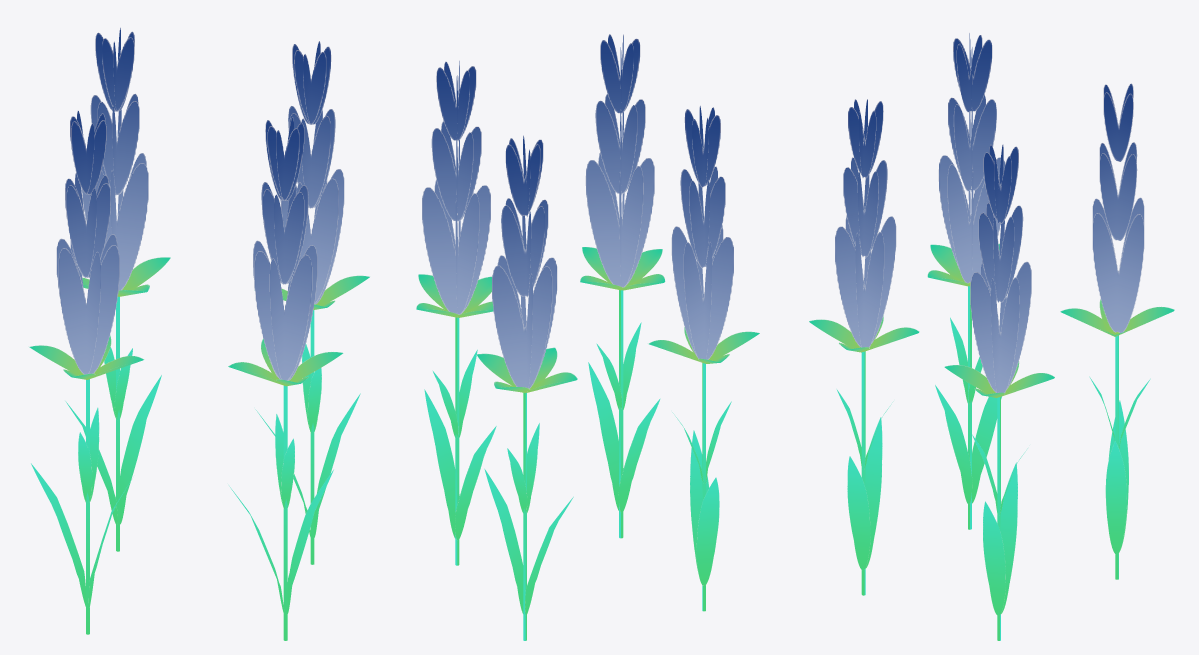
File: Flowers_n03_22.fbx
3 renders of one model, left to right at view 1: azimuth 30°, elevation 25°; view 2: azimuth 150°, elevation 25°; view 3: azimuth 270°, elevation 25°, orthographic. The views are drawn at different scales.
Parts seen in each view (by area): view 1: polySurface629; view 2: polySurface629; view 3: polySurface629.
Boxes of the visible parts, x1,y1,x2,y2 form: polySurface629: (29, 27, 369, 640); polySurface629: (416, 34, 759, 640); polySurface629: (809, 33, 1174, 640).
Size of the model in its own units: 80.46 by 116 by 81.74.
Materials: 1 (1 with a texture image).
